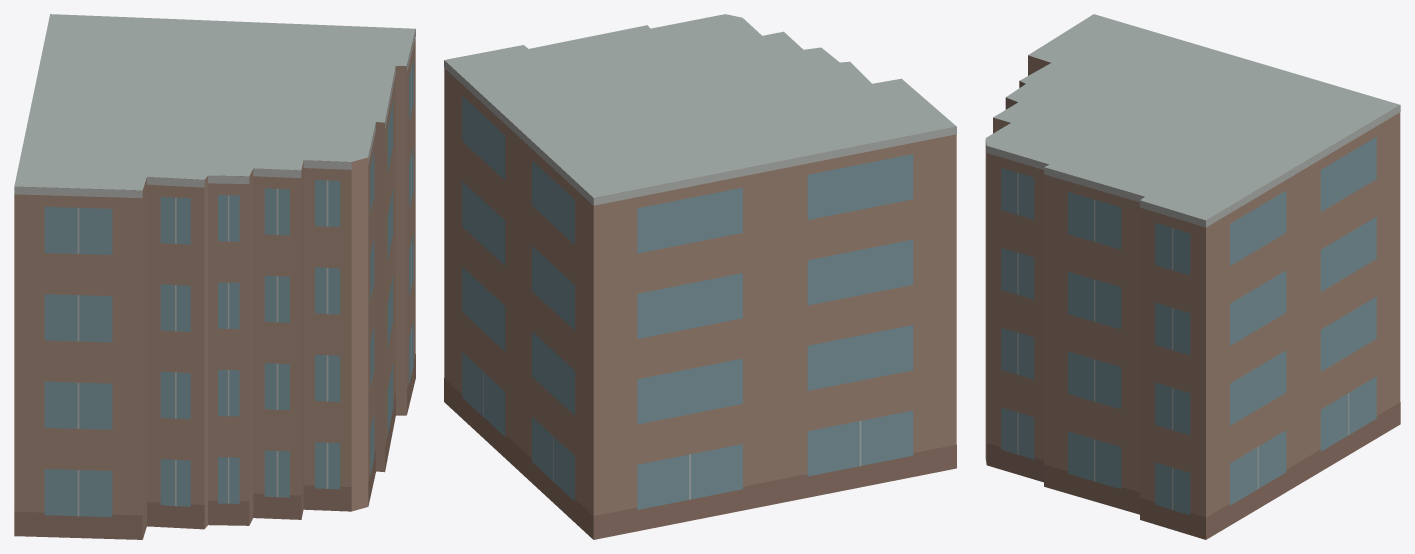
The model's file is survey-upis-32828552.glb.
3 views of the same model, side by side, from view 1: azimuth 30°, elevation 25°; view 2: azimuth 150°, elevation 25°; view 3: azimuth 270°, elevation 25° (orthographic). The views are drawn at different scales.
Visible parts, largest first — view 1: survey-upis-32828552.tmp; view 2: survey-upis-32828552.tmp; view 3: survey-upis-32828552.tmp.
Boxes of the visible parts, x1=… form: survey-upis-32828552.tmp: x1=14, y1=14, x2=415, y2=539; survey-upis-32828552.tmp: x1=444, y1=14, x2=956, y2=539; survey-upis-32828552.tmp: x1=985, y1=14, x2=1400, y2=539.
Size of the model in its own units: 14.97 by 10.8 by 12.72.
